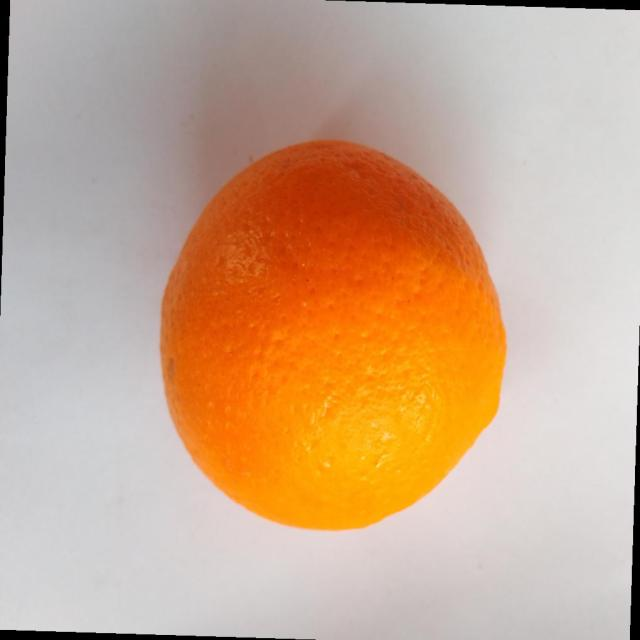fresh orange: (158, 137, 508, 532)
